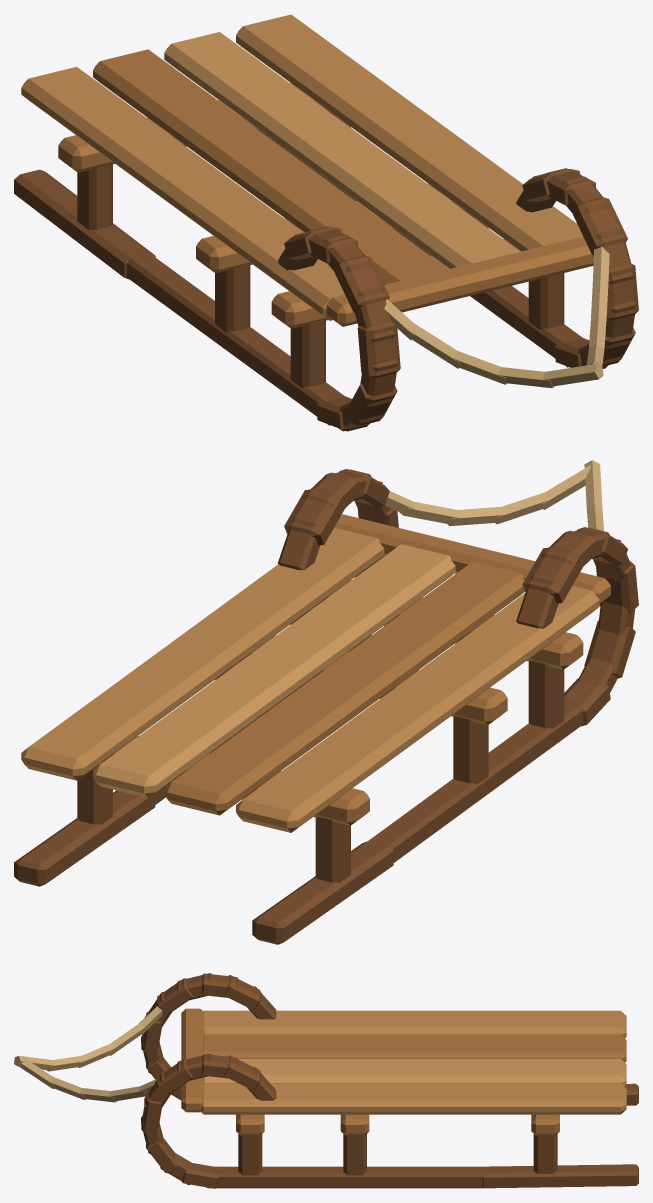
File: sled.glb
The picture shows the model from 3 angles, top to bottom: view 1: azimuth 30°, elevation 25°; view 2: azimuth 150°, elevation 25°; view 3: azimuth 270°, elevation 25°; orthographic projection. The views are drawn at different scales.
Visible parts, largest first — view 1: sled, part_rope; view 2: sled, part_rope; view 3: sled, part_rope.
Boxes of the visible parts, box(x1,y1,x2,y2) form: sled: box(14, 14, 638, 431); part_rope: box(384, 246, 609, 388); sled: box(14, 469, 638, 944); part_rope: box(385, 460, 603, 531); sled: box(141, 973, 638, 1188); part_rope: box(14, 1006, 162, 1102).
Size of the model in its own units: 0.5 by 0.2981 by 1.31.
